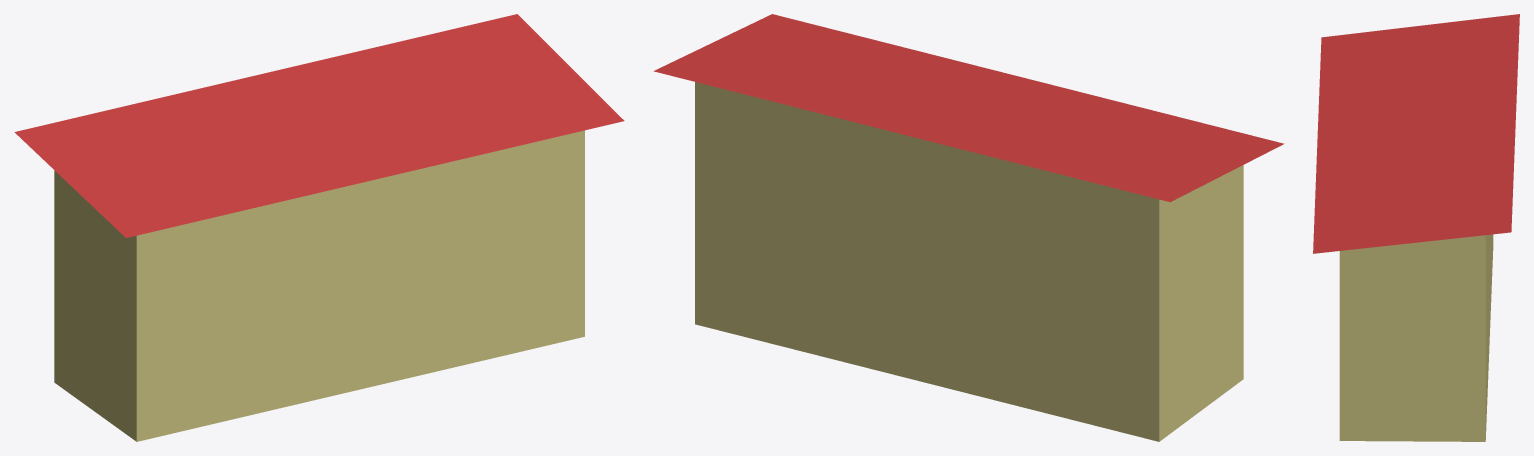
3 renders of one model, left to right at view 1: azimuth 30°, elevation 25°; view 2: azimuth 150°, elevation 25°; view 3: azimuth 270°, elevation 25°, orthographic. The views are drawn at different scales.
Bounding box in the file's own units: 14.81 × 5.93 × 6.98.
